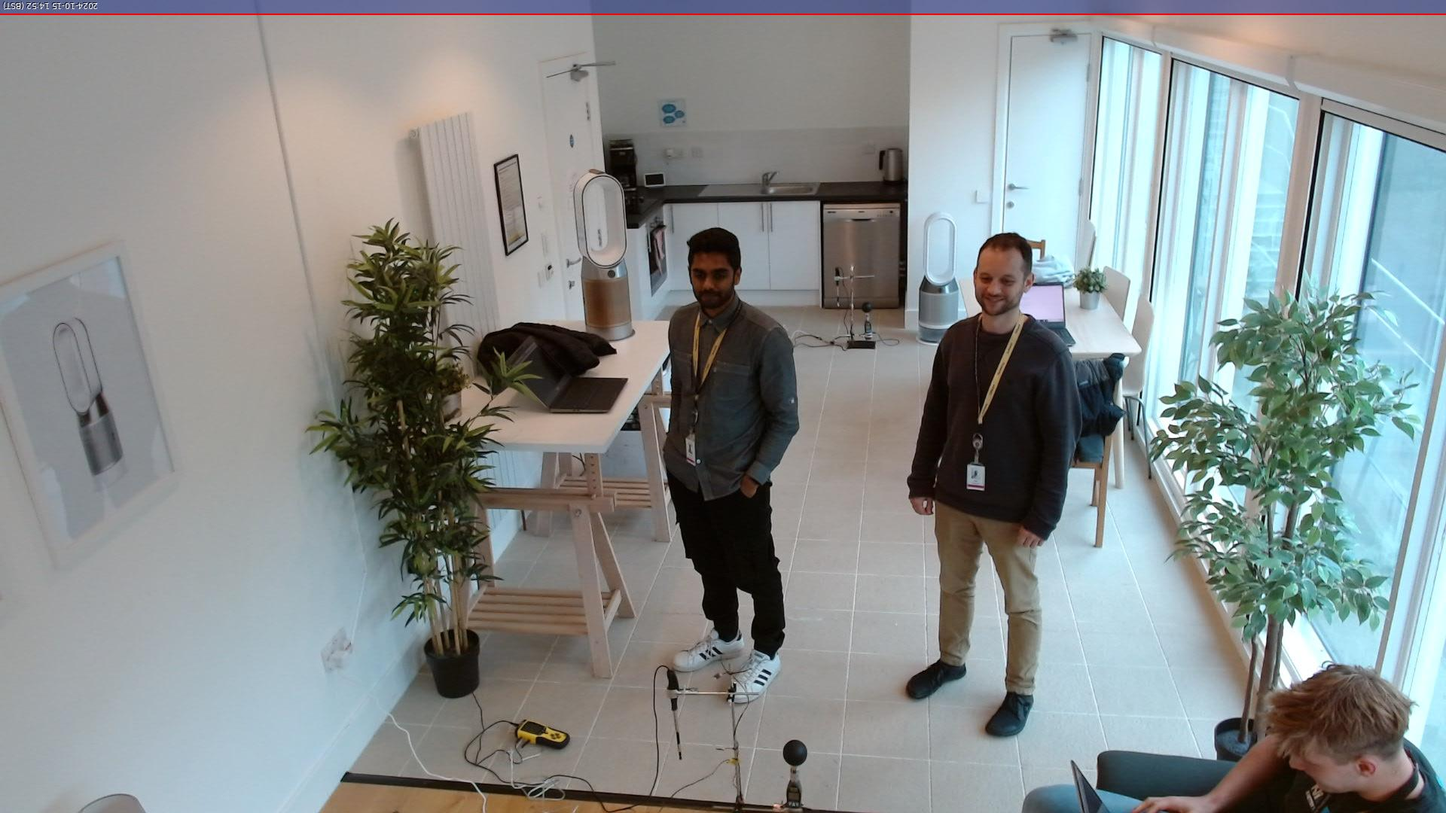long sleeve shirt: (662, 294, 801, 503)
short sleeve shirt: (1281, 735, 1446, 813)
sweater: (903, 307, 1075, 540)
trousers: (934, 496, 1045, 698), (672, 471, 787, 654), (1018, 780, 1175, 813)
